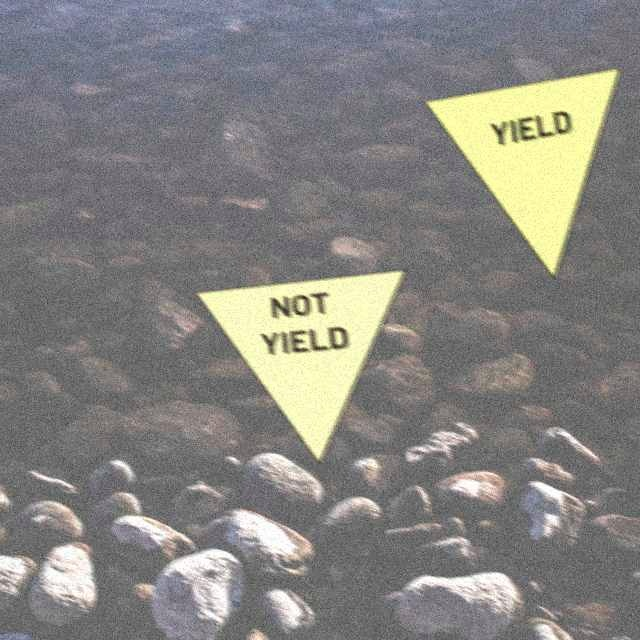NOT_YIELD: (194, 268, 406, 464)
YIELD: (423, 67, 620, 279)
